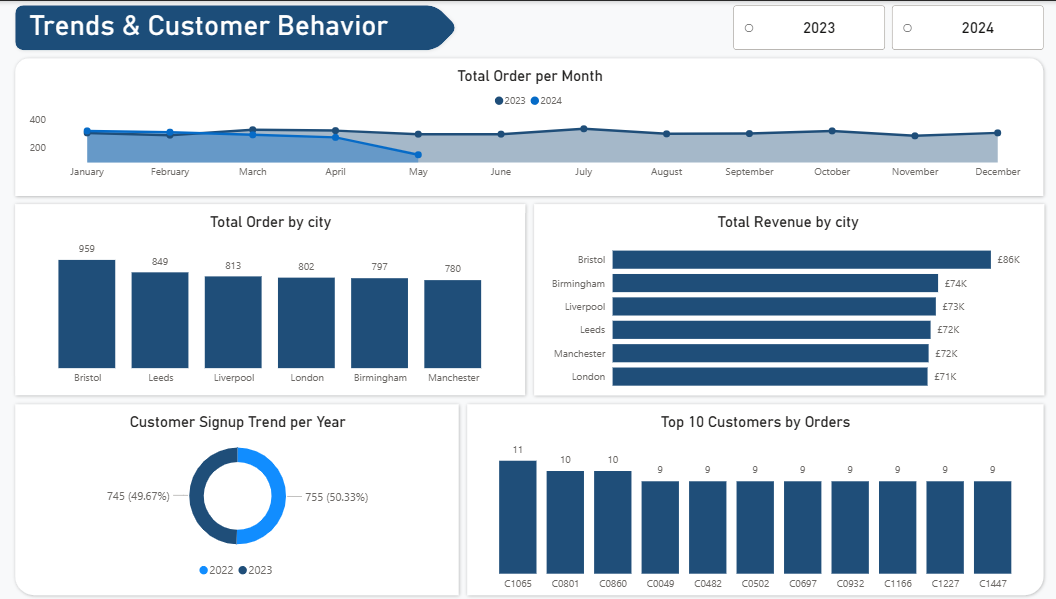

The page's visual inventory and layout, read from the dashboard file:
{"tool":"powerbi","page":{"name":"Page 3","canvas":[1280,720],"ordinal":2},"visuals":[{"type":"shape","box":[16,64,1248,176],"z":0},{"type":"shape","box":[560,480,704,240],"z":1000},{"type":"shape","box":[16,240,624,240],"z":2000},{"type":"shape","box":[640,240,624,240],"z":3000},{"type":"shape","box":[16,480,544,240],"z":4000},{"type":"lineChart","title":"Total Order per Month","fields":{"Y":["_Measures.Total Orders"],"Category":["orders_medium.Order_Month"],"Series":["orders_medium.Order_Year"]},"box":[32,80,1216,144],"z":5000},{"type":"columnChart","title":"Total Order by city","fields":{"Category":["customers_medium.city"],"Y":["_Measures.Total Orders"]},"box":[32.1,255.6,591.5,216.8],"z":6000},{"type":"barChart","fields":{"Category":["customers_medium.city"],"Y":["_Measures.Total Revenue"]},"box":[654.4,255.6,592.9,224.8],"z":7000},{"type":"columnChart","title":"Top 10 Customers by Orders","fields":{"Category":["customers_medium.customer_id"],"Y":["_Measures.Total Orders"]},"box":[575.5,496.5,673.2,223.5],"z":8000},{"type":"donutChart","title":"Customer Signup Trend per Year","fields":{"Category":["customers_medium.Year"],"Y":["CountNonNull(customers_medium.customer_id)"]},"box":[32,496,512,208],"z":9000},{"type":"advancedSlicerVisual","fields":{"Values":["orders_medium.Order_Year"]},"box":[880,0,384,64],"z":10000},{"type":"shape","box":[16.1,0,543.3,64.2],"z":11000},{"type":"textbox","box":[32.1,5.4,459,52.2],"z":12000}]}

Visuals, with their boxes in screenshot pixels (x1, y1, x2, y2), scaled from the page's 1280x720 canvas onto the 1056x599 screenshot:
shape: <region>13, 53, 1043, 200</region>
shape: <region>462, 399, 1043, 598</region>
shape: <region>13, 200, 528, 399</region>
shape: <region>528, 200, 1043, 399</region>
shape: <region>13, 399, 462, 598</region>
"Total Order per Month" lineChart: <region>26, 67, 1030, 186</region>
"Total Order by city" columnChart: <region>26, 213, 514, 393</region>
barChart - customers_medium.city x _Measures.Total Revenue: <region>540, 213, 1029, 400</region>
"Top 10 Customers by Orders" columnChart: <region>475, 413, 1030, 598</region>
"Customer Signup Trend per Year" donutChart: <region>26, 413, 449, 586</region>
advancedSlicerVisual - orders_medium.Order_Year: <region>726, 0, 1043, 53</region>
shape: <region>13, 0, 462, 53</region>
textbox: <region>26, 4, 405, 48</region>
